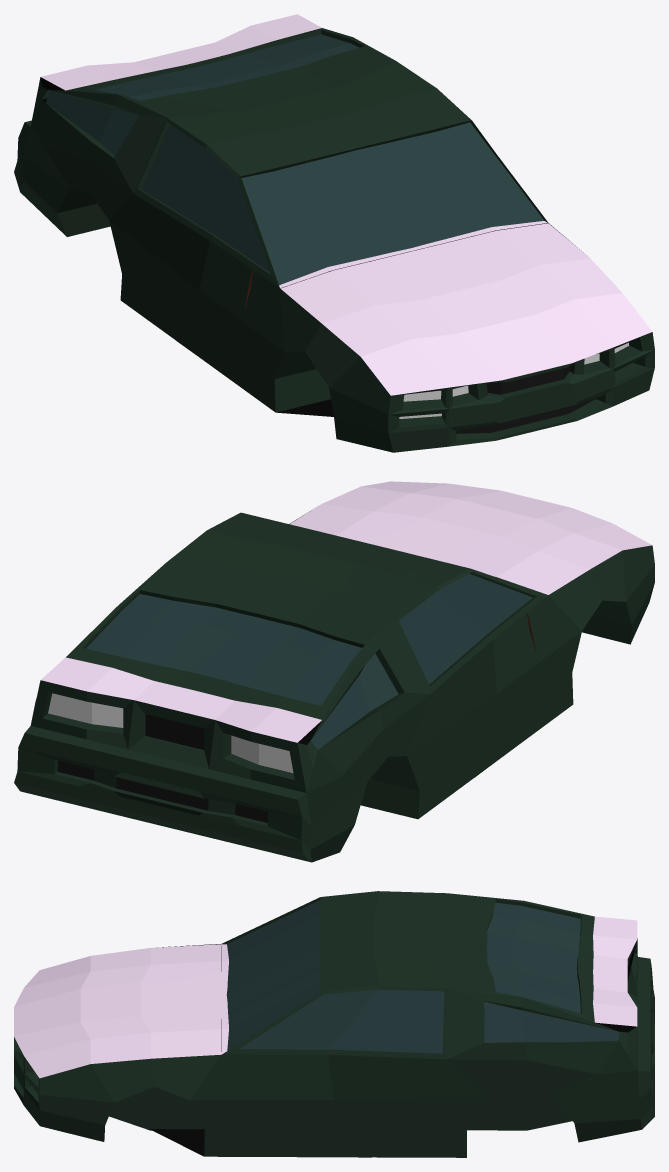
The model's file is Car Inside and Outside.fbx.
3 renders of one model, top to bottom at view 1: azimuth 30°, elevation 25°; view 2: azimuth 150°, elevation 25°; view 3: azimuth 270°, elevation 25°, orthographic. The views are drawn at different scales.
Parts seen in each view (by area): view 1: Cube.001, Cube.002; view 2: Cube.001, Cube.002; view 3: Cube.001, Cube.002.
Part boxes in pixels (bbox=[...]): Cube.001: bbox=[14, 28, 654, 452]; Cube.002: bbox=[40, 14, 652, 416]; Cube.001: bbox=[14, 510, 654, 862]; Cube.002: bbox=[40, 481, 651, 777]; Cube.001: bbox=[14, 891, 654, 1157]; Cube.002: bbox=[14, 900, 637, 1157].
Bounding box in the file's own units: 452 × 271 × 996.
